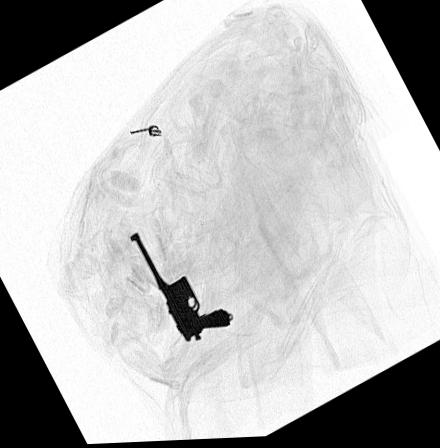Gun: (128, 232, 230, 344)
